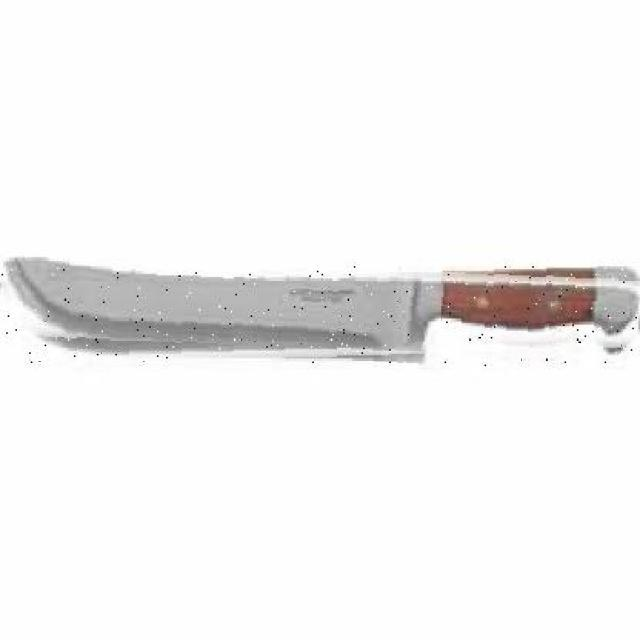knife: (0, 266, 640, 366)
